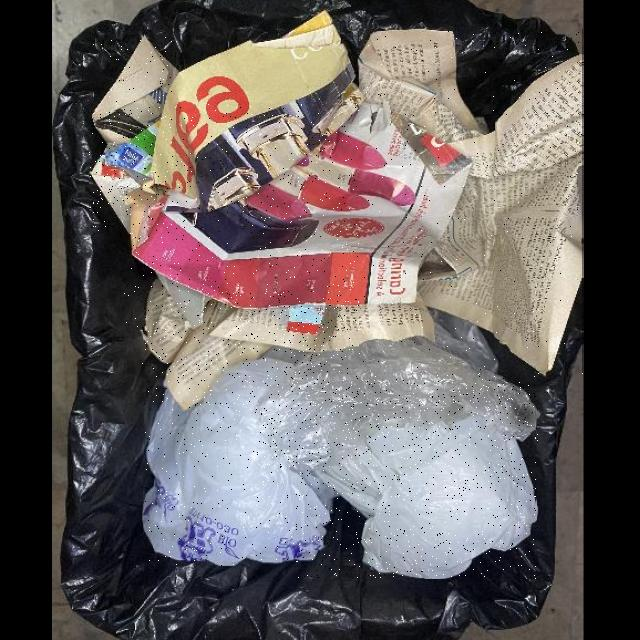paper: (124, 104, 472, 332), (359, 28, 583, 374), (144, 278, 291, 410), (145, 272, 276, 411), (273, 293, 434, 352), (93, 33, 176, 143), (89, 111, 159, 234)
plastic: (257, 310, 538, 468), (294, 414, 536, 578), (142, 360, 329, 566)
